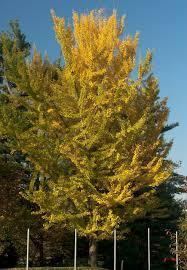tree: (16, 6, 176, 267)
